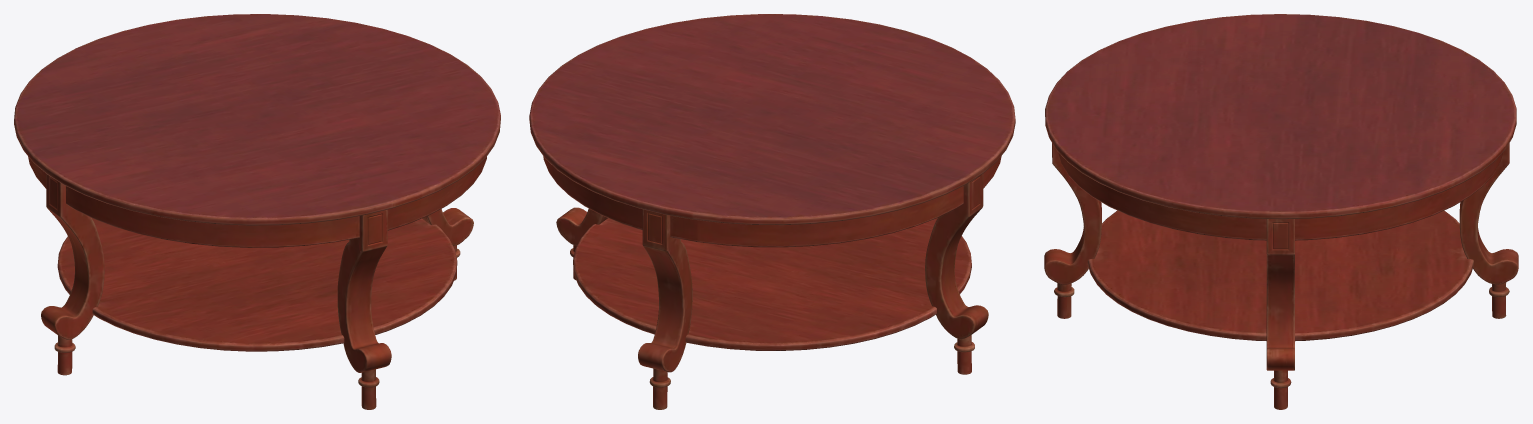
Rendered from abo-B07M6PKM7Q.glb.
3 views of the same model, side by side, from view 1: azimuth 30°, elevation 25°; view 2: azimuth 150°, elevation 25°; view 3: azimuth 270°, elevation 25° (orthographic). The views are drawn at different scales.
Size of the model in its own units: 1.02 by 0.486 by 1.03.
Materials: 1 (1 with a texture image).
